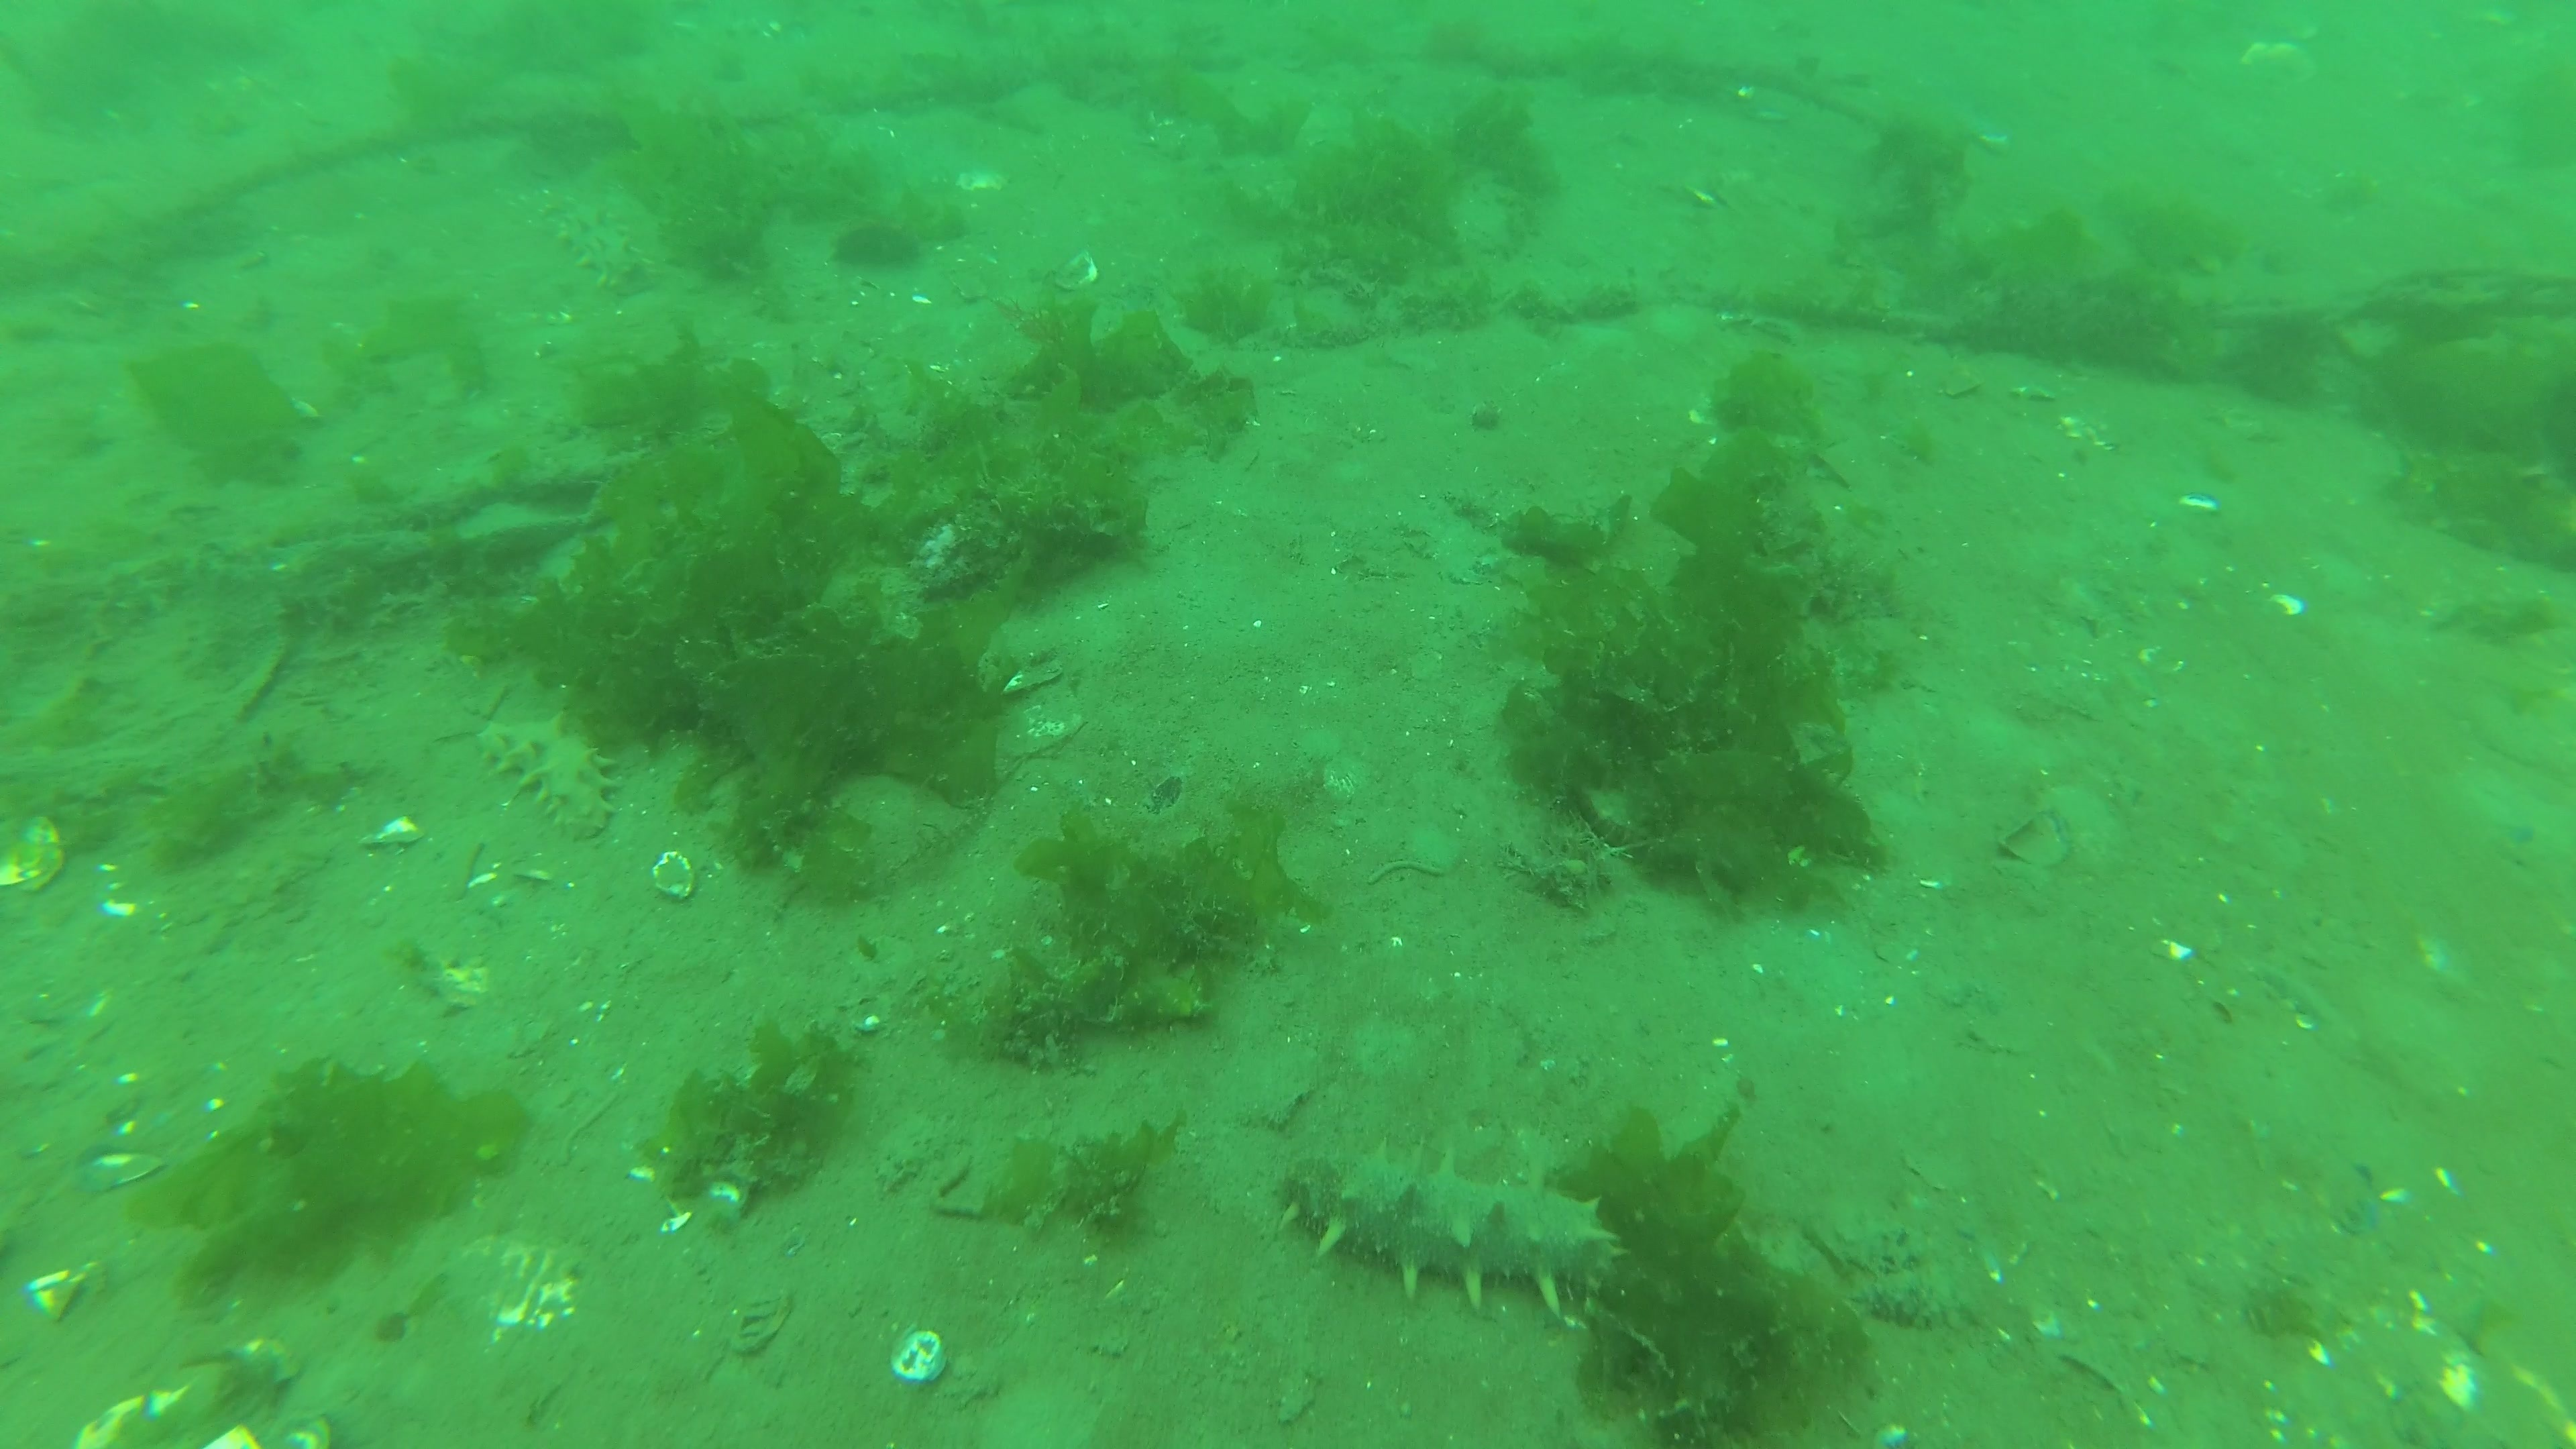holothurian: (1277, 1131, 1621, 1323), (476, 706, 626, 846), (557, 207, 655, 304)
